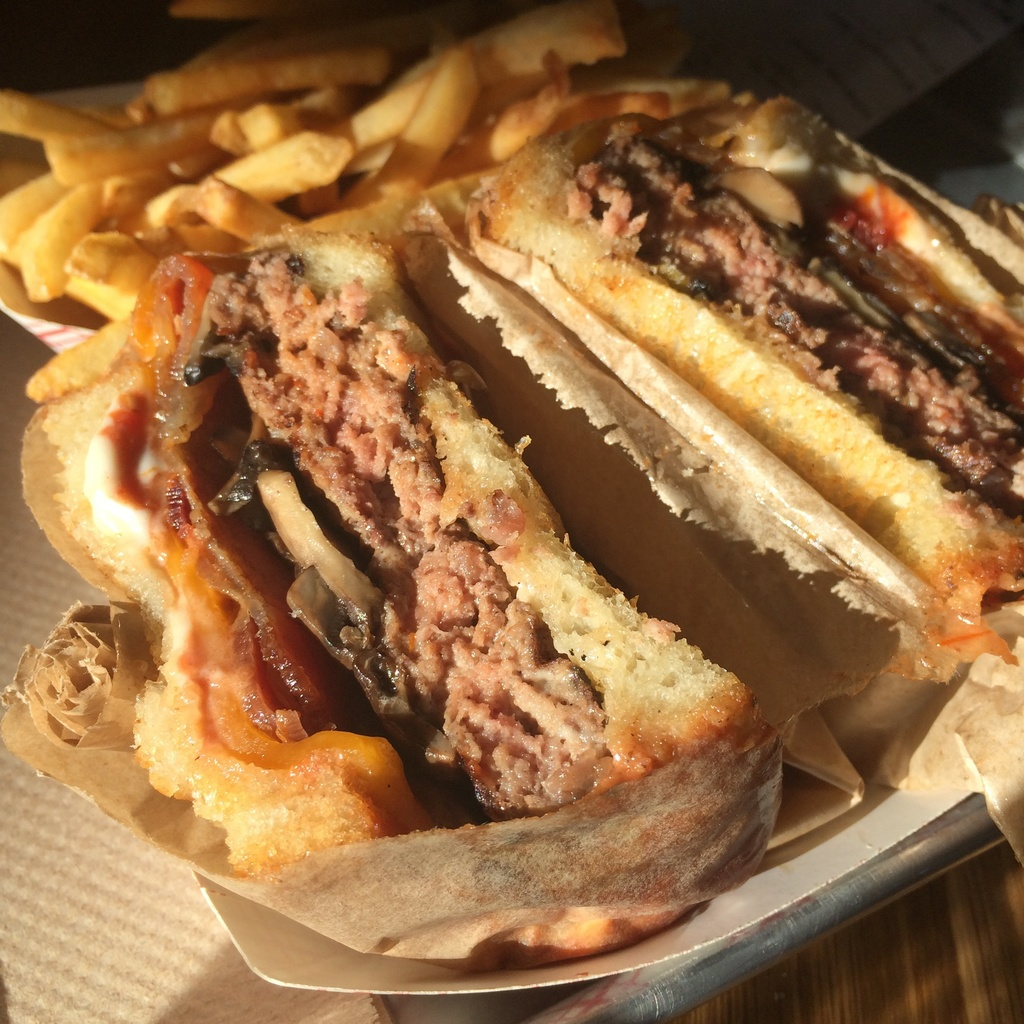Hamburger: (42, 96, 1023, 873)
